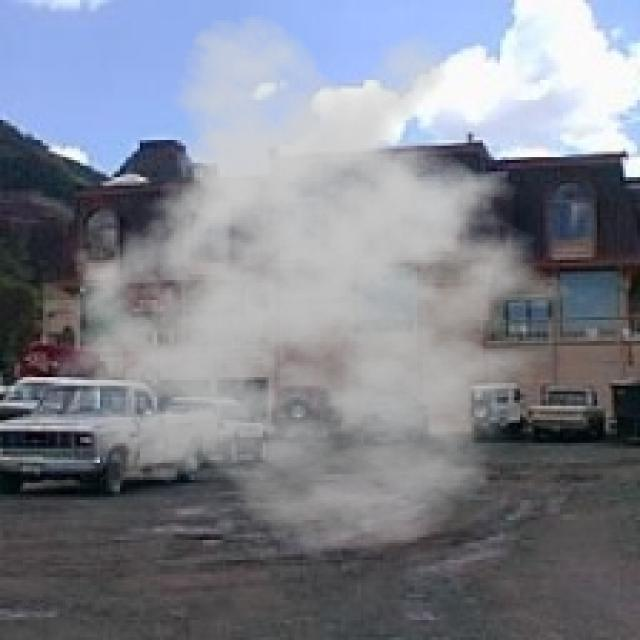Smoke: (37, 12, 597, 554)
